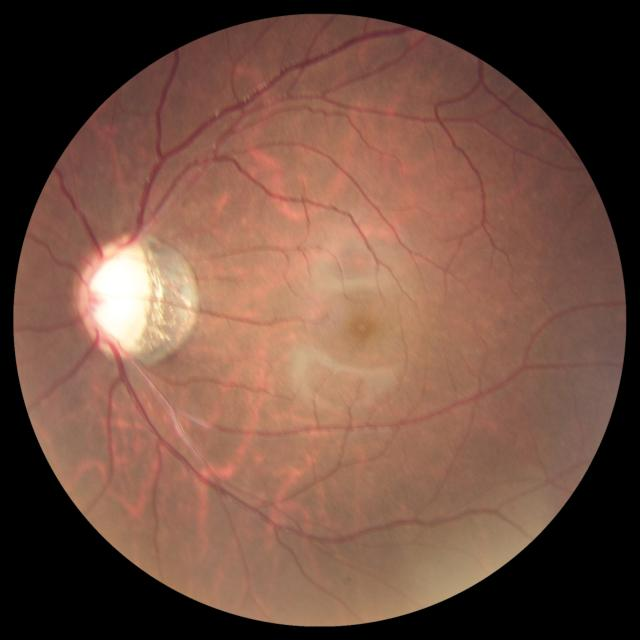OC: (90, 247, 146, 344)
OD: (76, 235, 156, 356)
